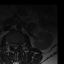CCS_normal: (14, 41, 16, 50)
LFS_stenosis: (18, 42, 20, 48)
LLS_normal: (16, 42, 18, 48)
RFS_stenosis: (10, 42, 12, 48)
RLS_normal: (12, 41, 14, 49)
